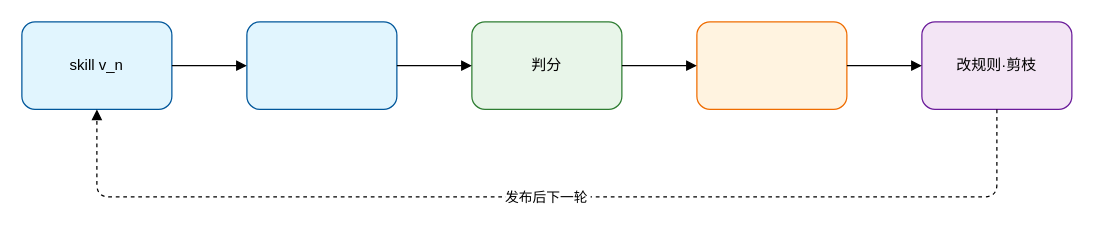
The diagram is 1094 pixels wide and 229 high, and some of its shapes have lost their labels. Here are the shapes that lost their labels. From the top down, the centre of each, then its label:
At (x=321, y=65): "评测集上跑".
At (x=771, y=65): "读失败轨迹".
